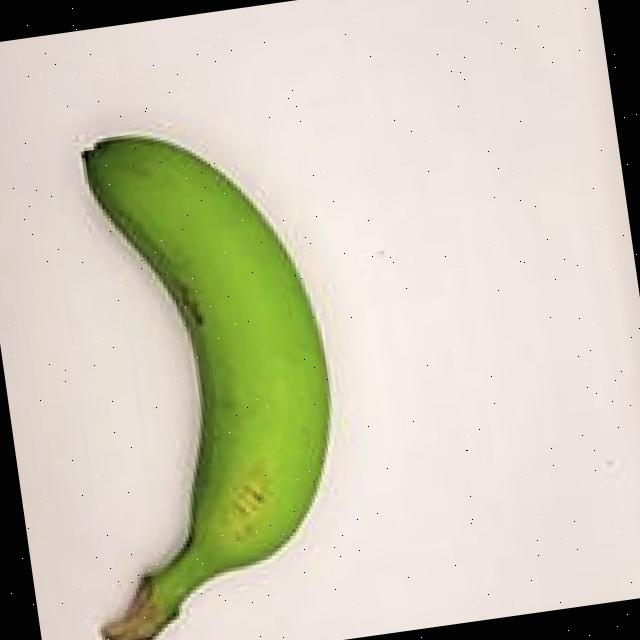Unripe: (9, 85, 372, 640)
